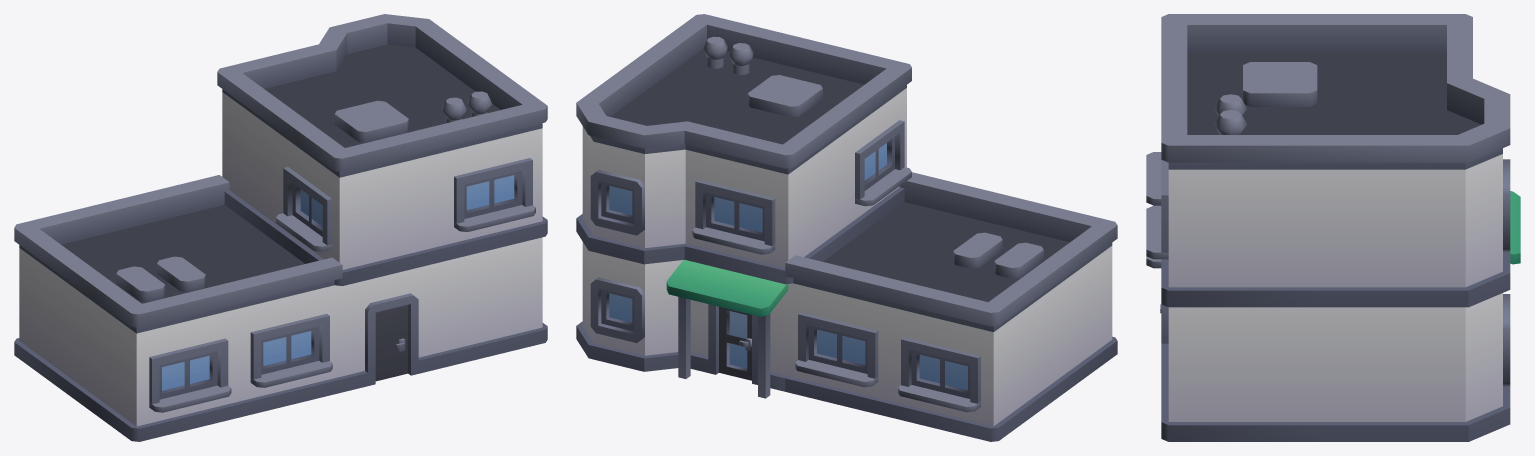
File: building-e.glb
3 renders of one model, left to right at view 1: azimuth 30°, elevation 25°; view 2: azimuth 150°, elevation 25°; view 3: azimuth 270°, elevation 25°, orthographic. The views are drawn at different scales.
Visible parts, largest first — view 1: building-e; view 2: building-e; view 3: building-e.
Part boxes in pixels (<box>): building-e: <box>14,14,547,441</box>; building-e: <box>576,14,1117,441</box>; building-e: <box>1146,14,1520,441</box>.
Size of the model in its own units: 1.64 by 0.893 by 1.01.
Materials: 1 (1 with a texture image).
